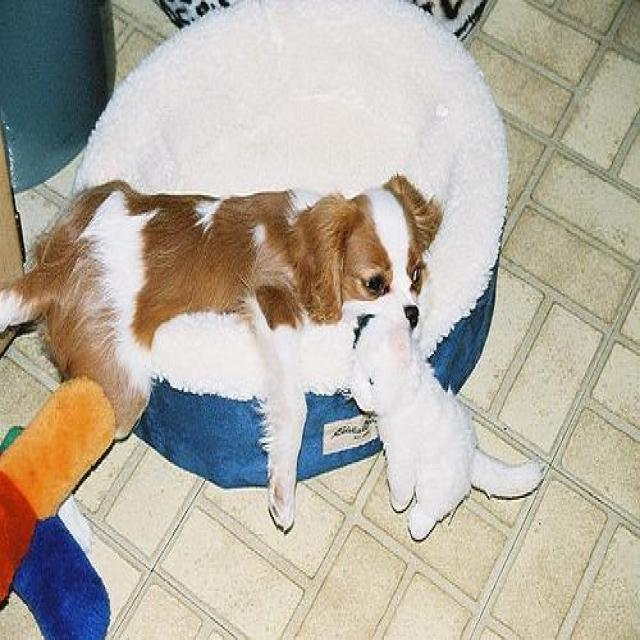blenheim_spaniel: (0, 170, 444, 536)
